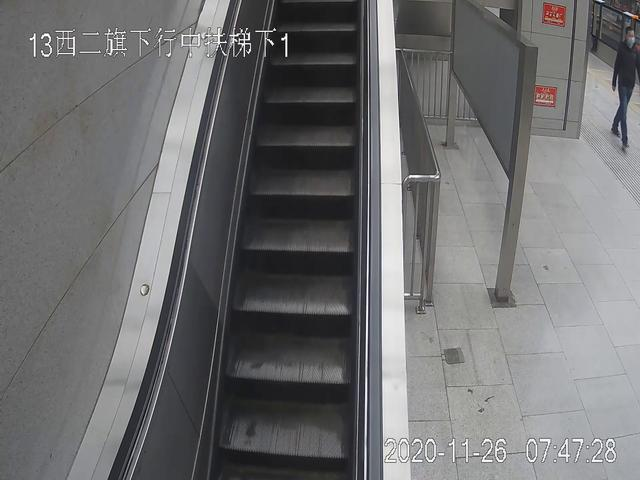person: (610, 28, 639, 152)
